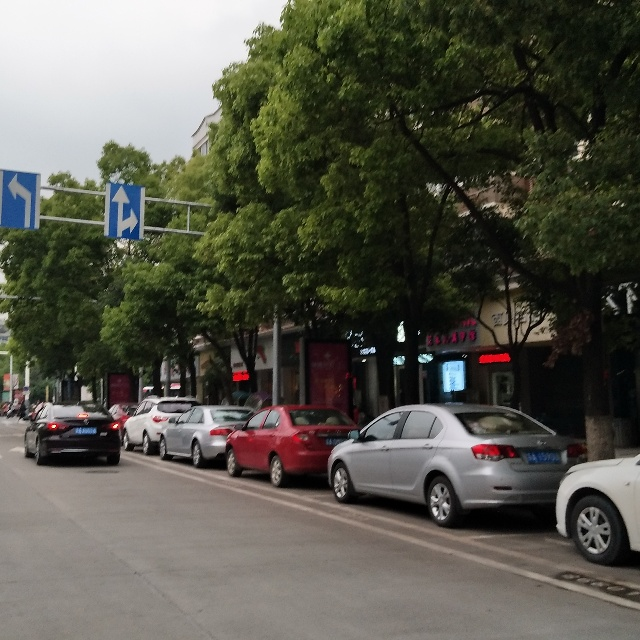left: (3, 168, 38, 230)
